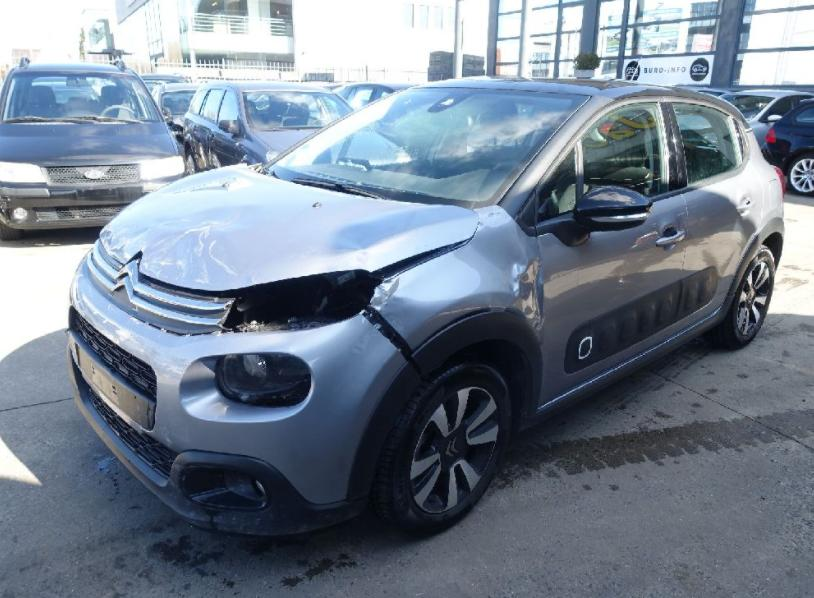Back-door: (664, 96, 765, 336)
Back-wheel: (702, 249, 775, 351)
Back-window: (672, 103, 744, 184)
Fender: (369, 204, 544, 417)
Front-bumper: (67, 258, 420, 535)
Front-door: (515, 97, 689, 411)
Front-wheel: (369, 359, 512, 534)
Front-window: (536, 102, 669, 224)
Grille: (85, 237, 240, 336)
Hood: (101, 164, 480, 290)
Mirror: (536, 186, 653, 248)
Quarter-panel: (728, 166, 784, 296)
Rocker-panel: (515, 294, 733, 437)
Roof: (407, 77, 662, 96)
Windshield: (259, 87, 591, 210)
